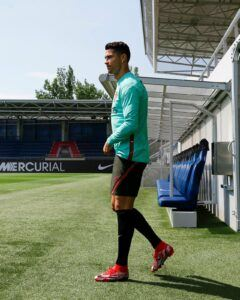football boots: (150, 242, 173, 272), (94, 265, 130, 282)
